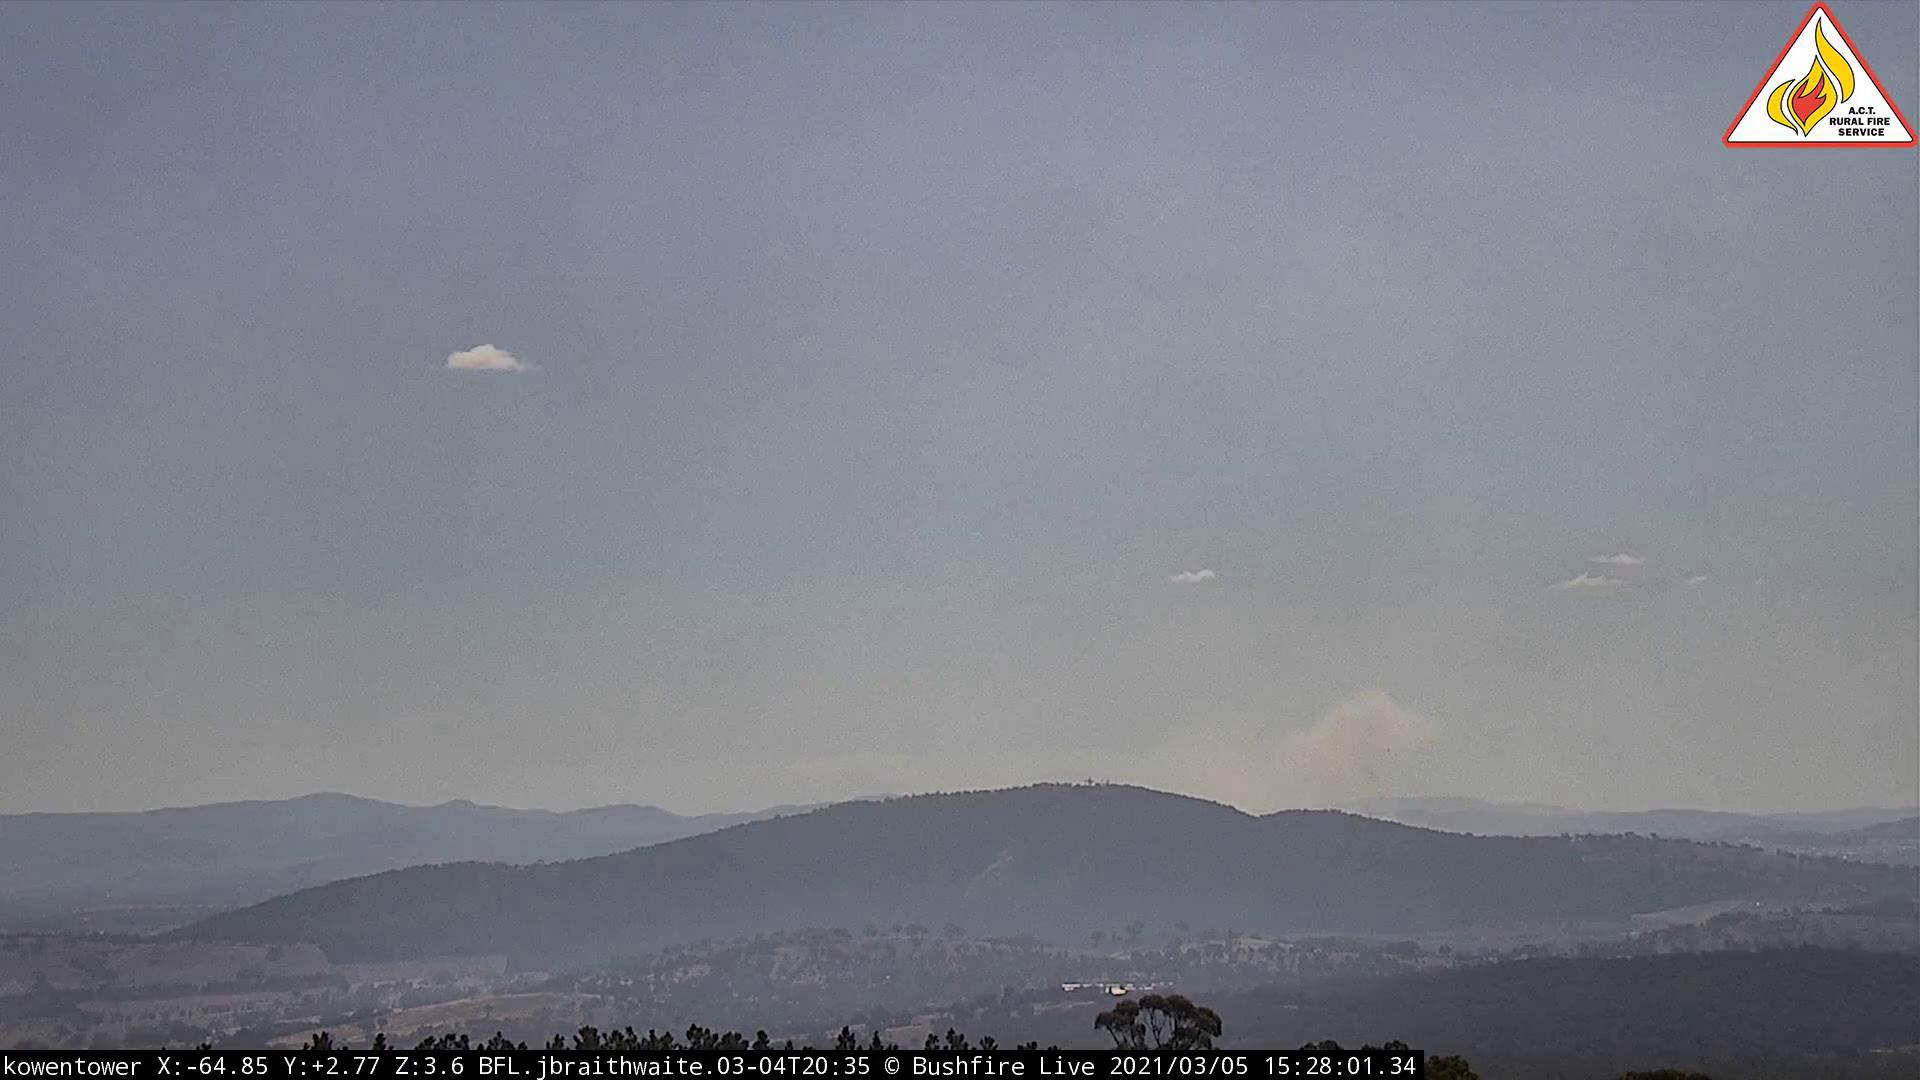Smoke: (1164, 640, 1472, 847)
